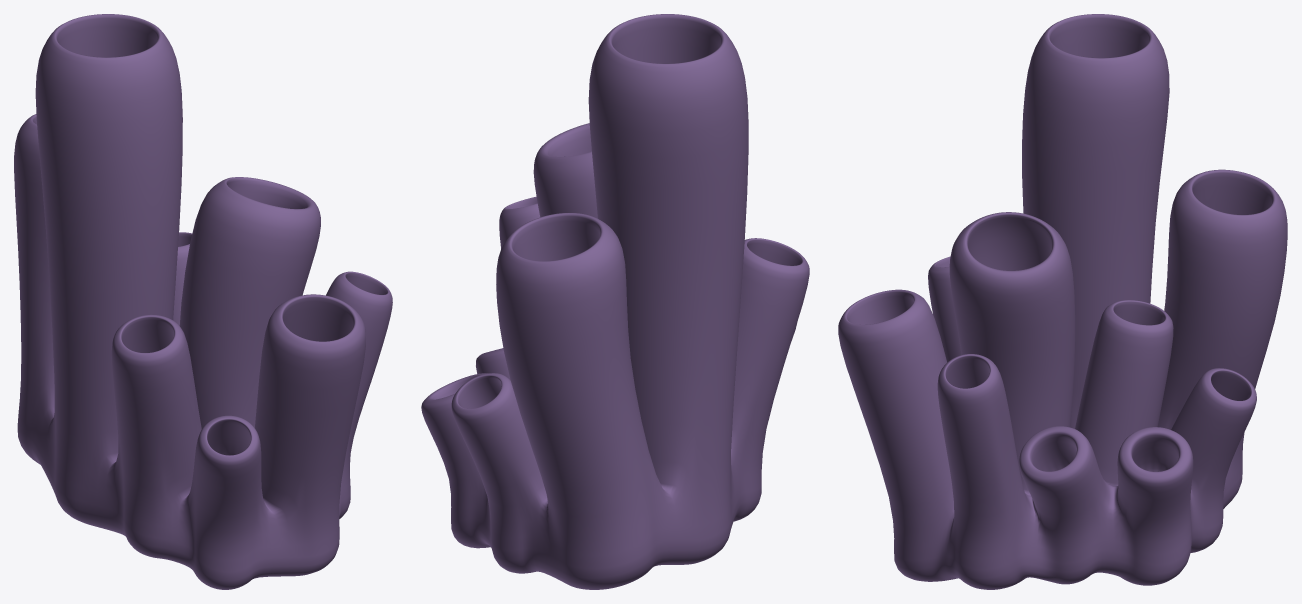
File: coral-3.fbx
3 views of the same model, side by side, from view 1: azimuth 30°, elevation 25°; view 2: azimuth 150°, elevation 25°; view 3: azimuth 270°, elevation 25° (orthographic). The views are drawn at different scales.
Visible parts, largest first — view 1: pCylinder14; view 2: pCylinder14; view 3: pCylinder14.
Part boxes in pixels (x1,y1,x2,y2): pCylinder14: (14,14,392,589); pCylinder14: (421,14,809,589); pCylinder14: (838,14,1287,589).
Size of the model in its own units: 11.82 by 20.08 by 16.71.
